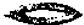Mouth: (4, 3, 84, 25)
